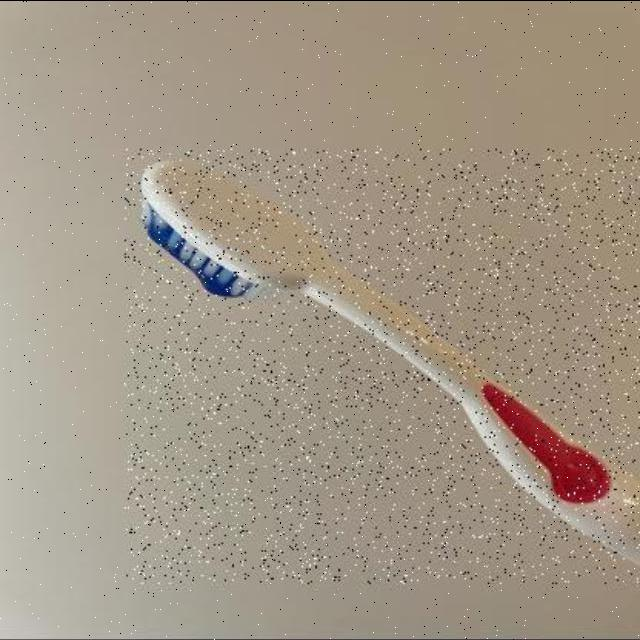toothbrush: (125, 150, 640, 584)
